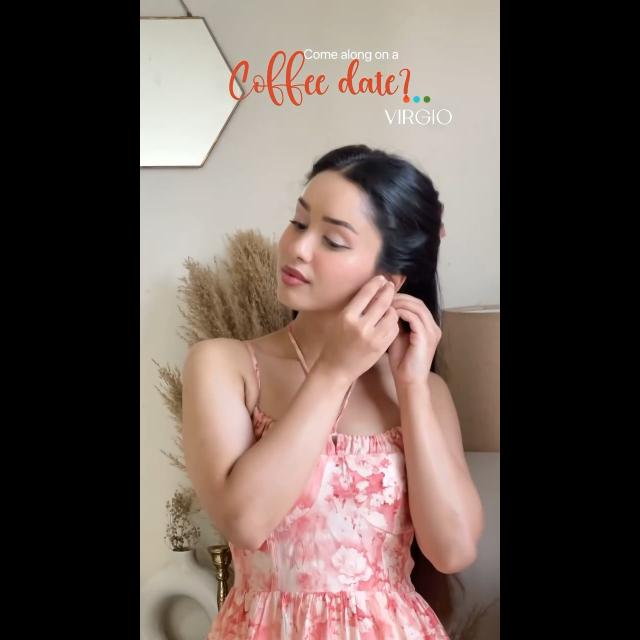dress: (225, 332, 455, 640)
